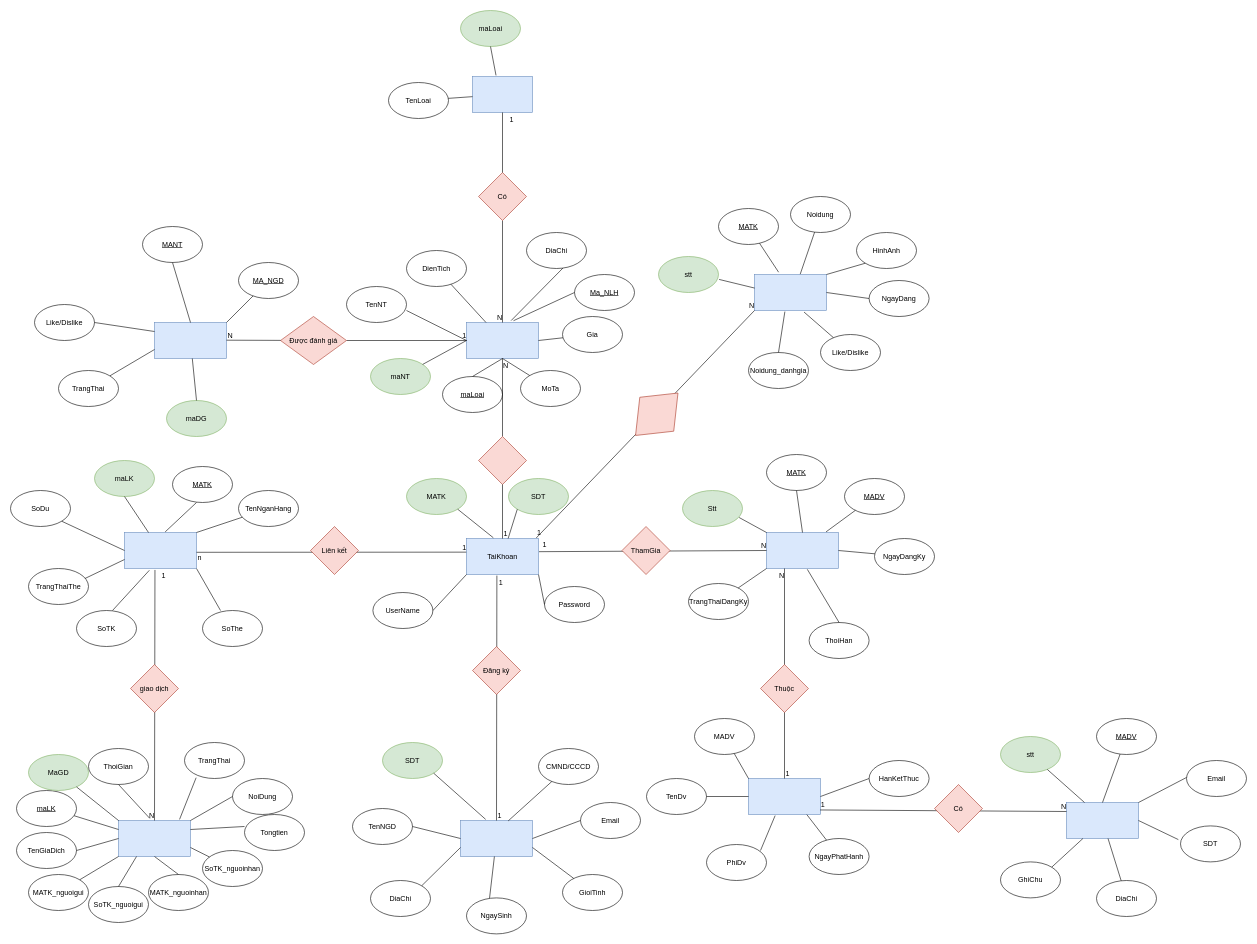
The diagram is 1257 pixels wide and 944 high, and some of its shapes have lost their labels. Each missing label, with the centre of its shape:
"BaiDang" goes at point (790, 292).
"DanhGia" goes at point (190, 340).
"DanhSach_DangKy _DichVu" goes at point (802, 550).
"DichVu" goes at point (784, 796).
"DichVu_HoTro" goes at point (1102, 820).
"Giao_Dich" goes at point (154, 838).
"LienKetThe_Vi" goes at point (160, 550).
"LoaiNhaTro" goes at point (502, 94).
"NguoiDung" goes at point (496, 838).
"NhaTro" goes at point (502, 340).
"Sở hữu" goes at point (502, 460).
"Đăng" goes at point (656, 414).
